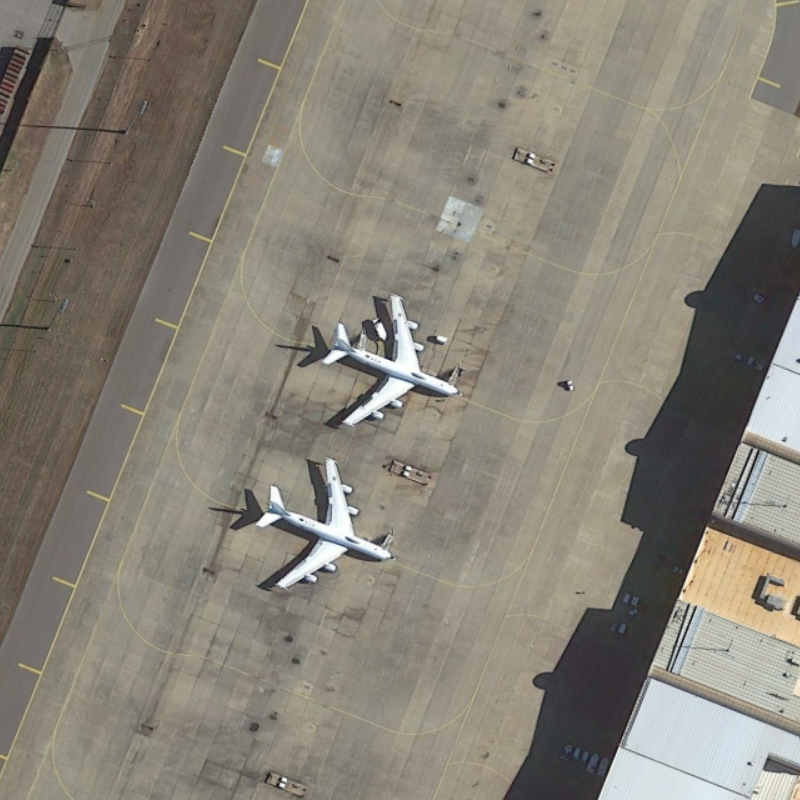A11: (250, 449, 404, 598), (316, 289, 469, 437)
